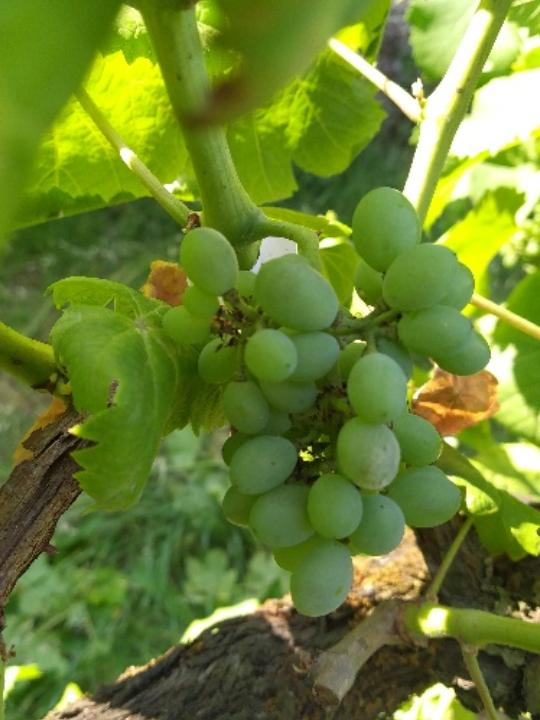grape: (152, 182, 497, 620)
